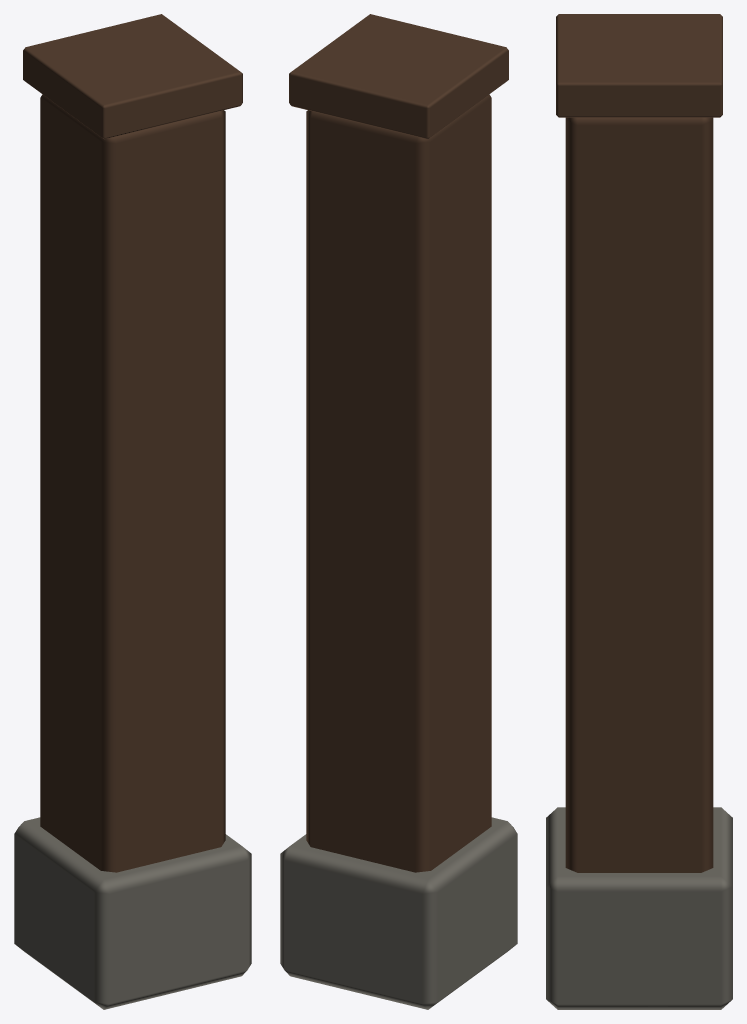
File: village-post-end.3fe5d22d.glb
3 views of the same model, side by side, from view 1: azimuth 30°, elevation 25°; view 2: azimuth 150°, elevation 25°; view 3: azimuth 270°, elevation 25° (orthographic). The views are drawn at different scales.
Visible parts, largest first — view 1: body; view 2: body; view 3: body.
Boxes of the visible parts, left/top/right/bottom form: body: left=14, top=14, right=251, bottom=1009; body: left=280, top=14, right=517, bottom=1009; body: left=546, top=14, right=732, bottom=1009.
Bounding box in the file's own units: 0.38 × 2.08 × 0.38.
